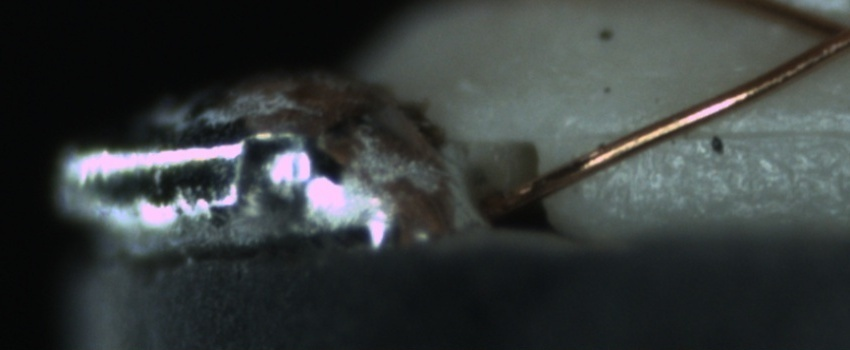CL: (800, 3, 850, 63)
DL: (606, 100, 849, 162)
